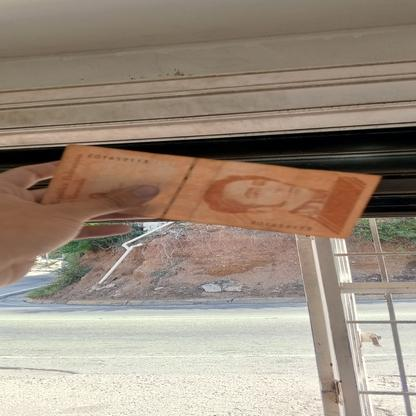twenty-front-vef: (38, 142, 382, 239)
